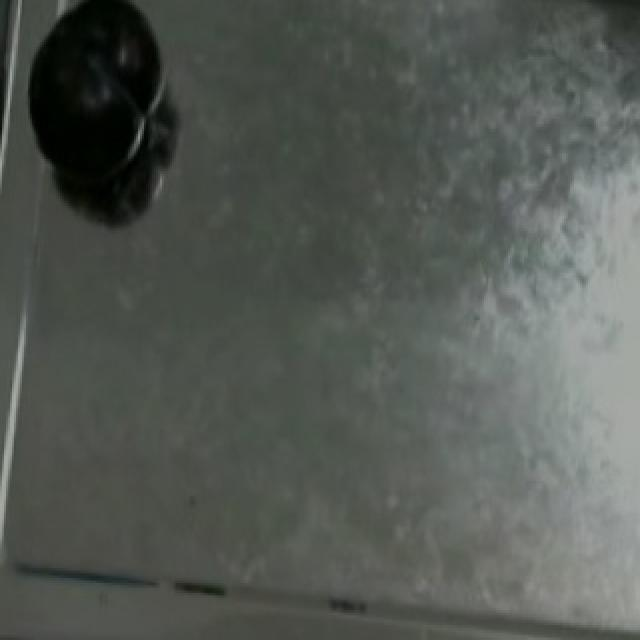Fruit: (20, 0, 168, 198)
